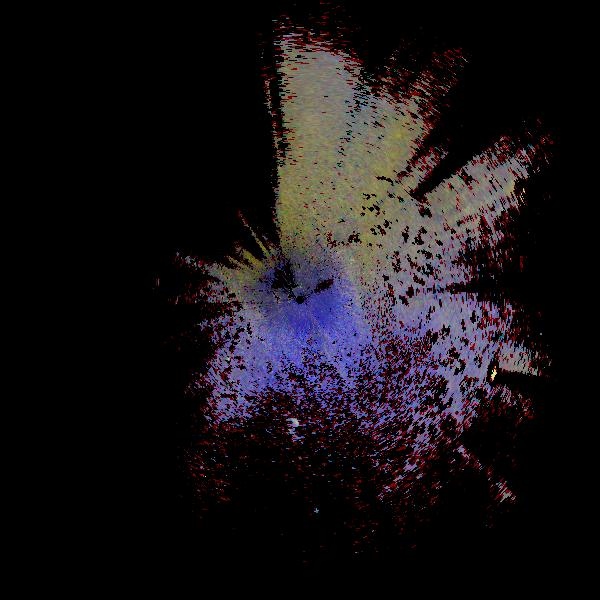roost: (294, 421, 297, 424)
